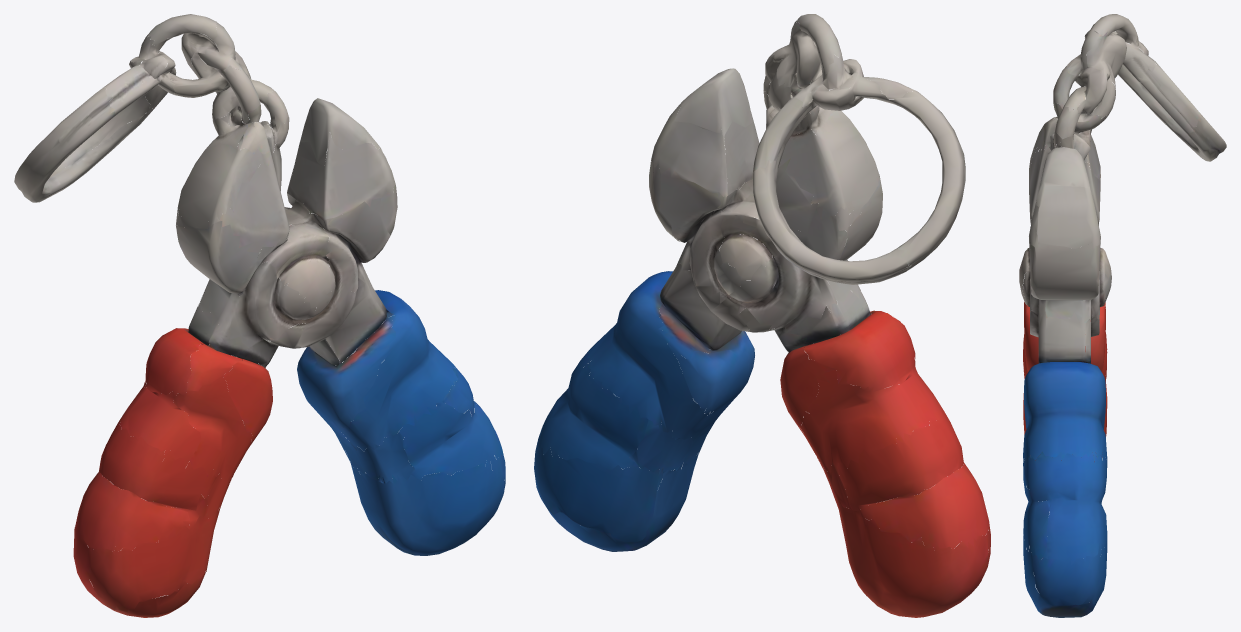
Rendered from defuse-kit.glb.
3 renders of one model, left to right at view 1: azimuth 30°, elevation 25°; view 2: azimuth 150°, elevation 25°; view 3: azimuth 270°, elevation 25°, orthographic. The views are drawn at different scales.
Parts seen in each view (by area): view 1: tripo_node_52947d89-5d08-4efc-bdb5-f9faa9f49605; view 2: tripo_node_52947d89-5d08-4efc-bdb5-f9faa9f49605; view 3: tripo_node_52947d89-5d08-4efc-bdb5-f9faa9f49605.
Part boxes in pixels (x1,y1,x2,y2): tripo_node_52947d89-5d08-4efc-bdb5-f9faa9f49605: [14, 14, 505, 617]; tripo_node_52947d89-5d08-4efc-bdb5-f9faa9f49605: [534, 14, 990, 617]; tripo_node_52947d89-5d08-4efc-bdb5-f9faa9f49605: [1019, 14, 1226, 617].
Size of the model in its own units: 1.92 by 2.4 by 0.8986.
1 material, 1 textured.
